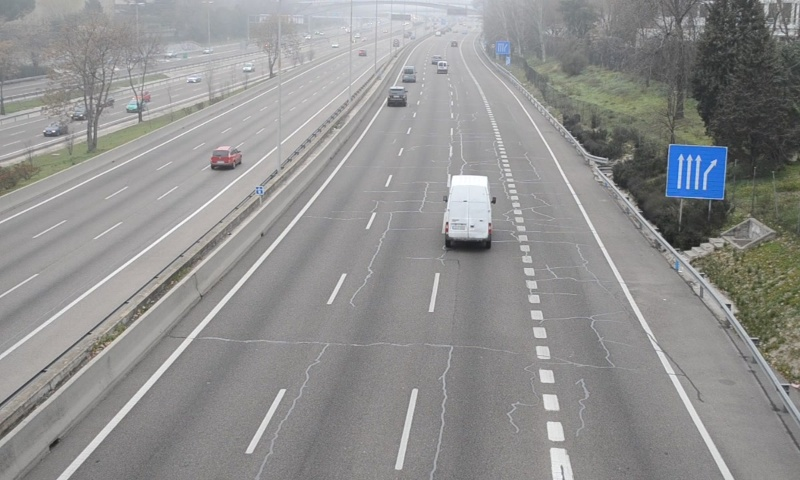car: (388, 86, 408, 105)
van: (445, 175, 493, 248), (400, 65, 416, 84)
